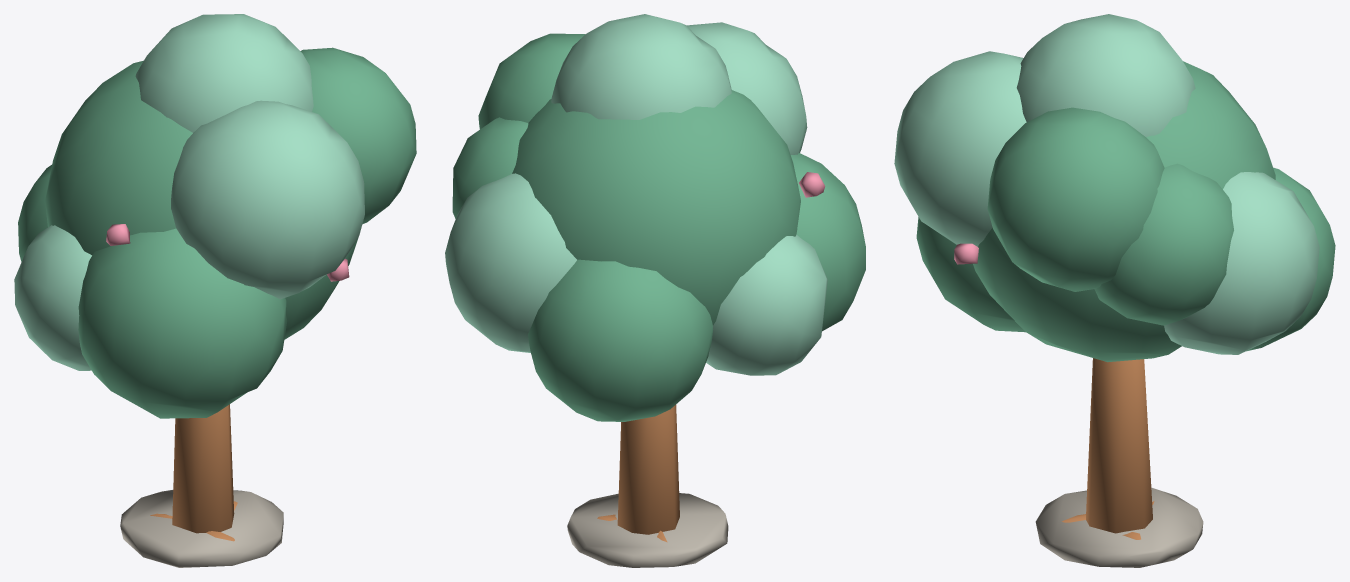
File: tree_big.glb
The picture shows the model from 3 angles, left to right: view 1: azimuth 30°, elevation 25°; view 2: azimuth 150°, elevation 25°; view 3: azimuth 270°, elevation 25°; orthographic projection. The views are drawn at different scales.
Visible parts, largest first — view 1: tree_big; view 2: tree_big; view 3: tree_big.
Part boxes in pixels (left/top/right/bottom): tree_big: left=14, top=14, right=416, bottom=567; tree_big: left=445, top=14, right=865, bottom=567; tree_big: left=894, top=14, right=1335, bottom=567.
Bounding box in the file's own units: 4.38 × 6.14 × 4.71.
Materials: 1 (1 with a texture image).
